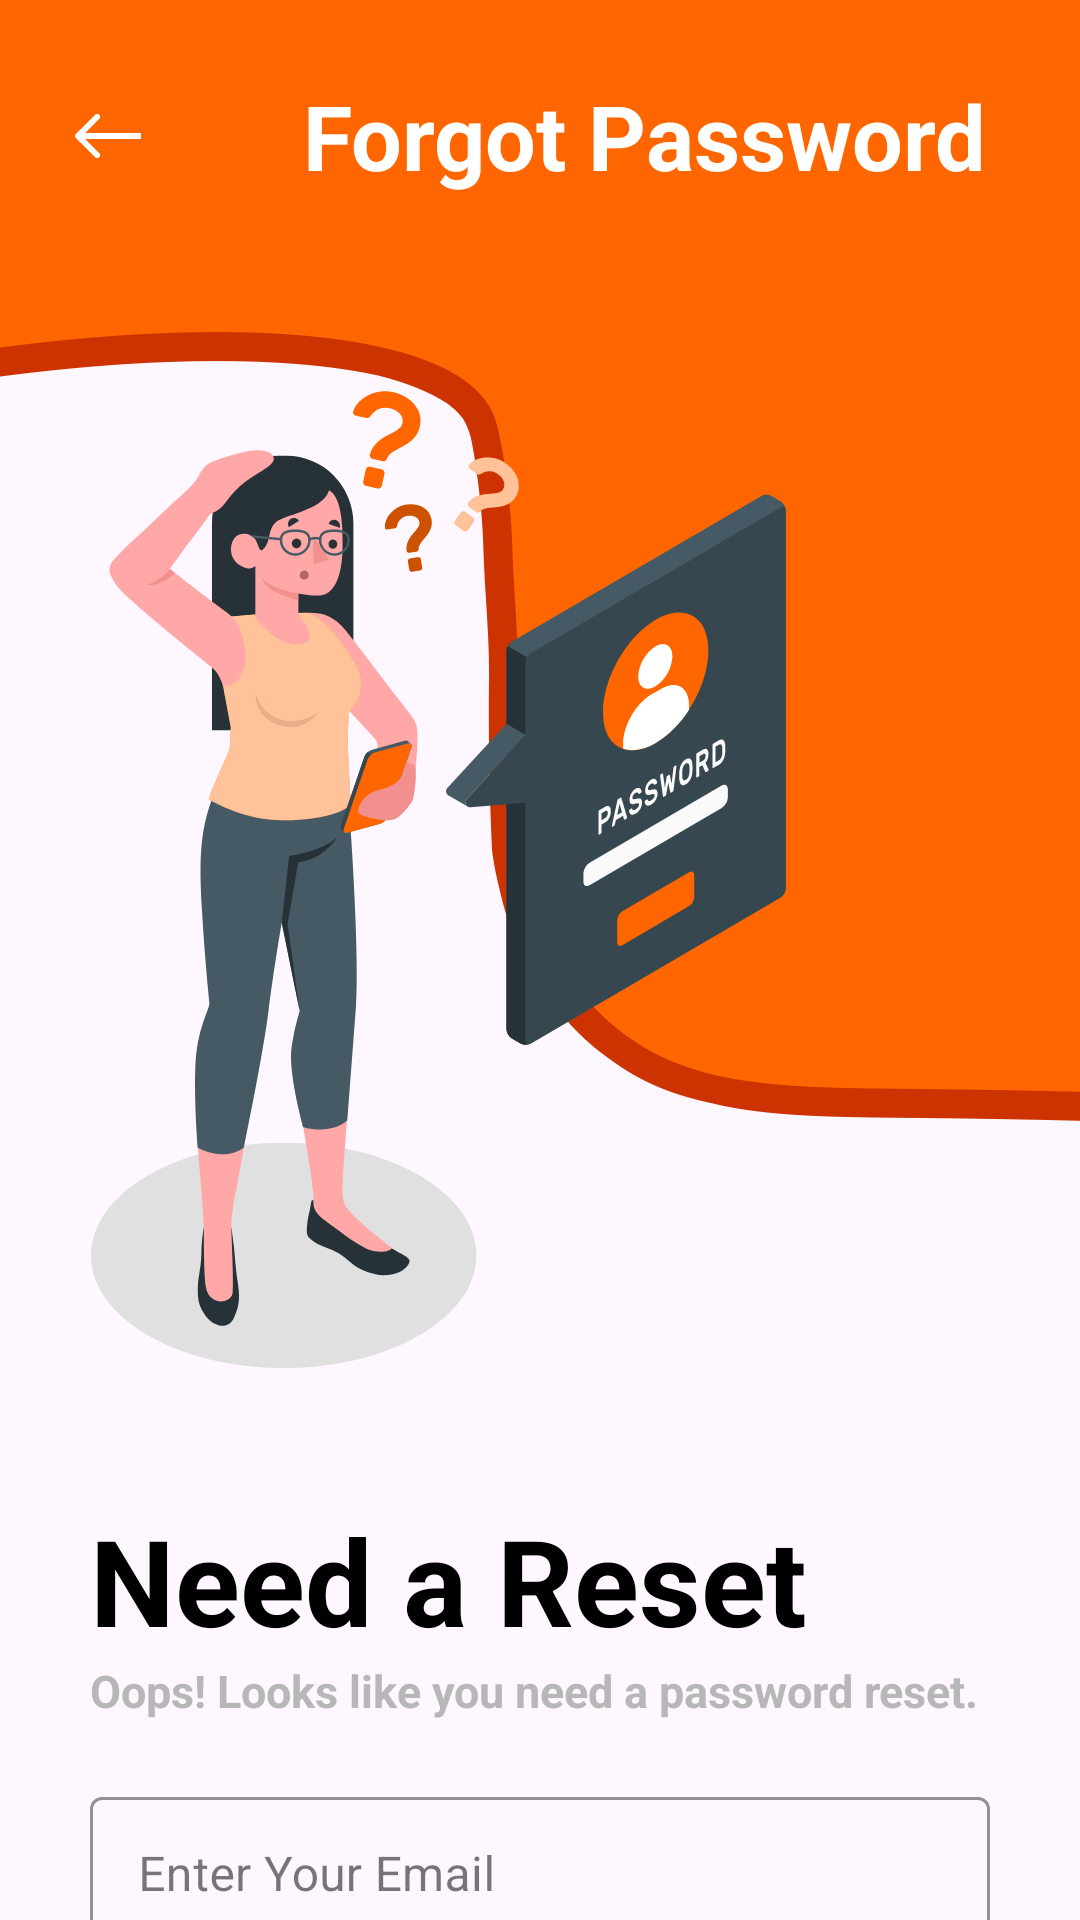

Named icons in this screenshot (1080*1920) and their bounding boxes, (x1, y1, x2, y2):
arrowback: (75, 114, 141, 158)
